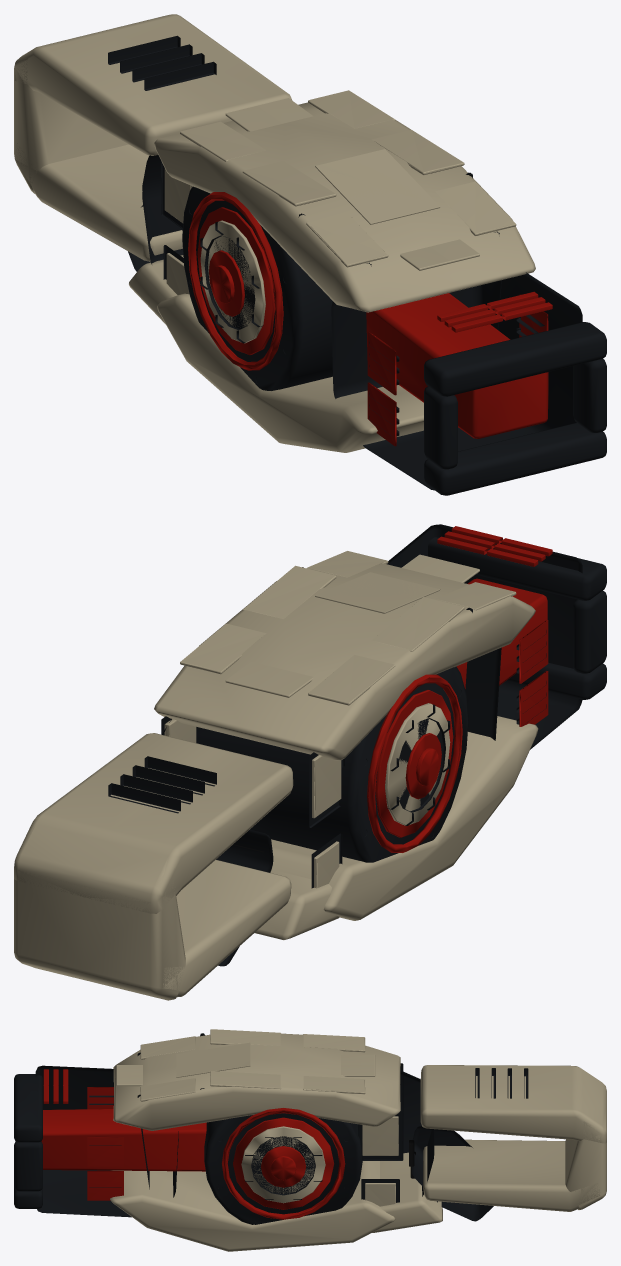
Rendered from WP_Spinfusor_HP.obj.
The picture shows the model from 3 angles, top to bottom: view 1: azimuth 30°, elevation 25°; view 2: azimuth 150°, elevation 25°; view 3: azimuth 270°, elevation 25°; orthographic projection. The views are drawn at different scales.
Visible parts, largest first — view 1: WP_RearBrace, WP_UpperArmor, WP_MuzzleAttachment, WP_Detail_Panels, WP_LowerArmor, WP_Barrel, WP_Muzzle, WP_DiscChamber, WP_Detail_EnergyCore, WP_Detail_Engraving, WP_EnergyRing, WP_Detail_Fins (+4 smaller); view 2: WP_RearBrace, WP_UpperArmor, WP_Detail_Panels, WP_LowerArmor, WP_DiscChamber, WP_MuzzleAttachment, WP_Detail_EnergyCore, WP_Muzzle, WP_Detail_Engraving, WP_Detail_Hatches, WP_Detail_Fins, WP_EnergyRing (+5 smaller); view 3: WP_RearBrace, WP_UpperArmor, WP_LowerArmor, WP_Barrel, WP_Detail_EnergyCore, WP_Detail_Panels, WP_DiscChamber, WP_Muzzle, WP_MuzzleAttachment, WP_Detail_Hatches, WP_Detail_Vents, WP_FrontSupport (+5 smaller).
Part boxes in pixels (x1,y1,x2,y2): WP_RearBrace: (14,14,292,261); WP_UpperArmor: (154,102,535,312); WP_MuzzleAttachment: (424,322,606,495); WP_Detail_Panels: (180,90,516,270); WP_LowerArmor: (157,293,423,452); WP_Barrel: (366,293,547,438); WP_Muzzle: (331,272,582,490); WP_DiscChamber: (182,186,332,390); WP_Detail_EnergyCore: (197,207,275,354); WP_Detail_Engraving: (315,149,552,332); WP_EnergyRing: (188,192,283,370); WP_Detail_Fins: (108,35,216,90); WP_RearBrace: (14,733,293,1000); WP_UpperArmor: (154,563,535,760); WP_Detail_Panels: (180,551,516,705); WP_LowerArmor: (271,716,538,920); WP_DiscChamber: (196,666,468,862); WP_MuzzleAttachment: (428,537,606,699); WP_Detail_EnergyCore: (375,690,453,837); WP_Muzzle: (387,524,582,749); WP_Detail_Engraving: (315,526,552,613); WP_Detail_Hatches: (161,716,344,888); WP_Detail_Fins: (108,756,216,813); WP_EnergyRing: (367,674,462,852); WP_RearBrace: (420,1065,606,1211); WP_UpperArmor: (113,1033,400,1130); WP_LowerArmor: (110,1161,395,1251); WP_Barrel: (41,1109,206,1171); WP_Detail_EnergyCore: (233,1117,334,1209); WP_Detail_Panels: (116,1029,375,1101); WP_DiscChamber: (204,1113,362,1224); WP_Muzzle: (35,1065,178,1217); WP_MuzzleAttachment: (14,1074,42,1208); WP_Detail_Hatches: (358,1063,403,1206); WP_Detail_Vents: (87,1087,123,1200); WP_FrontSupport: (372,1152,442,1232).
Bounding box in the file's own units: 1.5 × 1.75 × 5.5.
